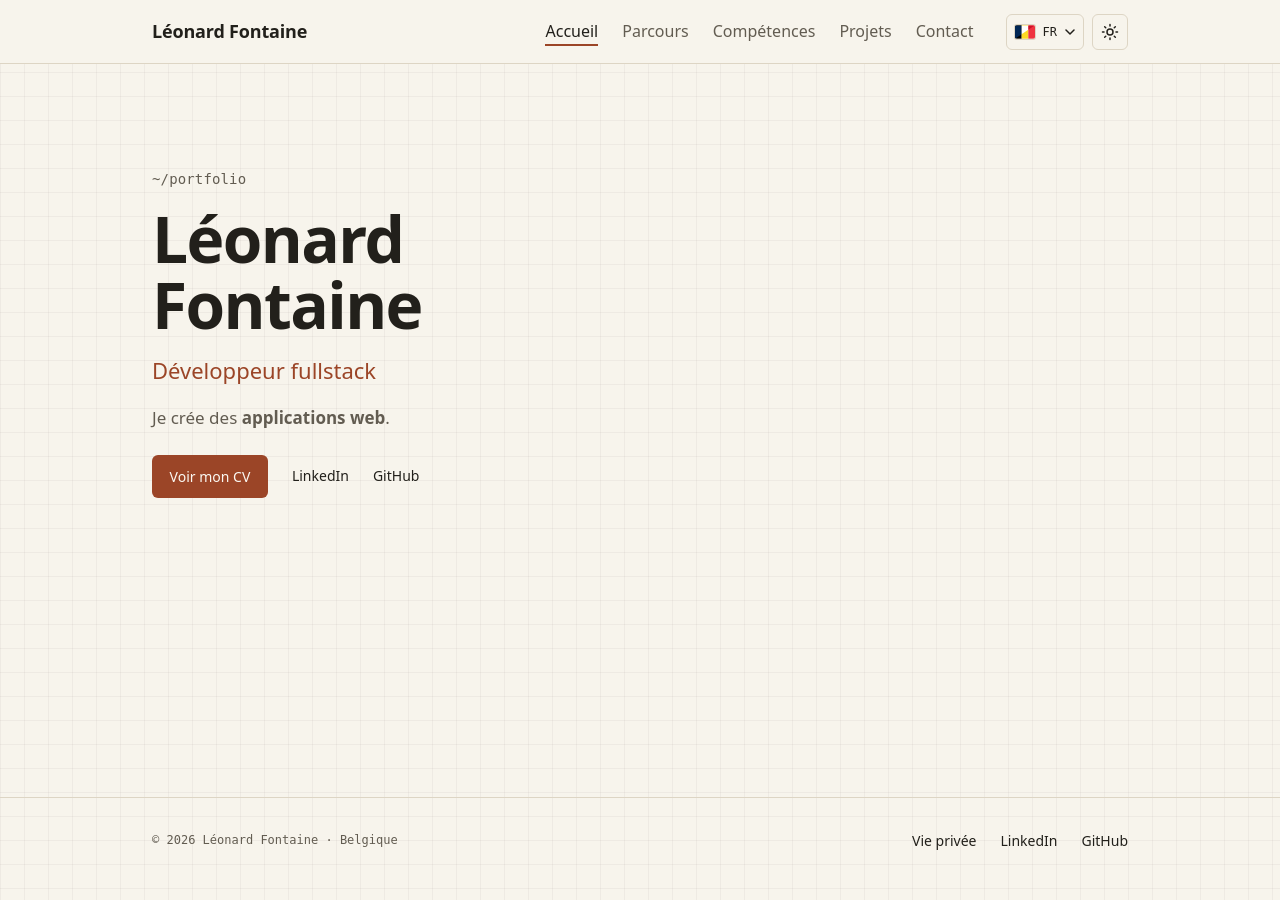
Test: home page › does not show the previous language while the new one loads
Expected: the text "Développeur fullstack" is shown, [152,355,376,385]
Click the button with aria-label "Langue : Français" at (1045, 32), box [1006,14,1084,50]
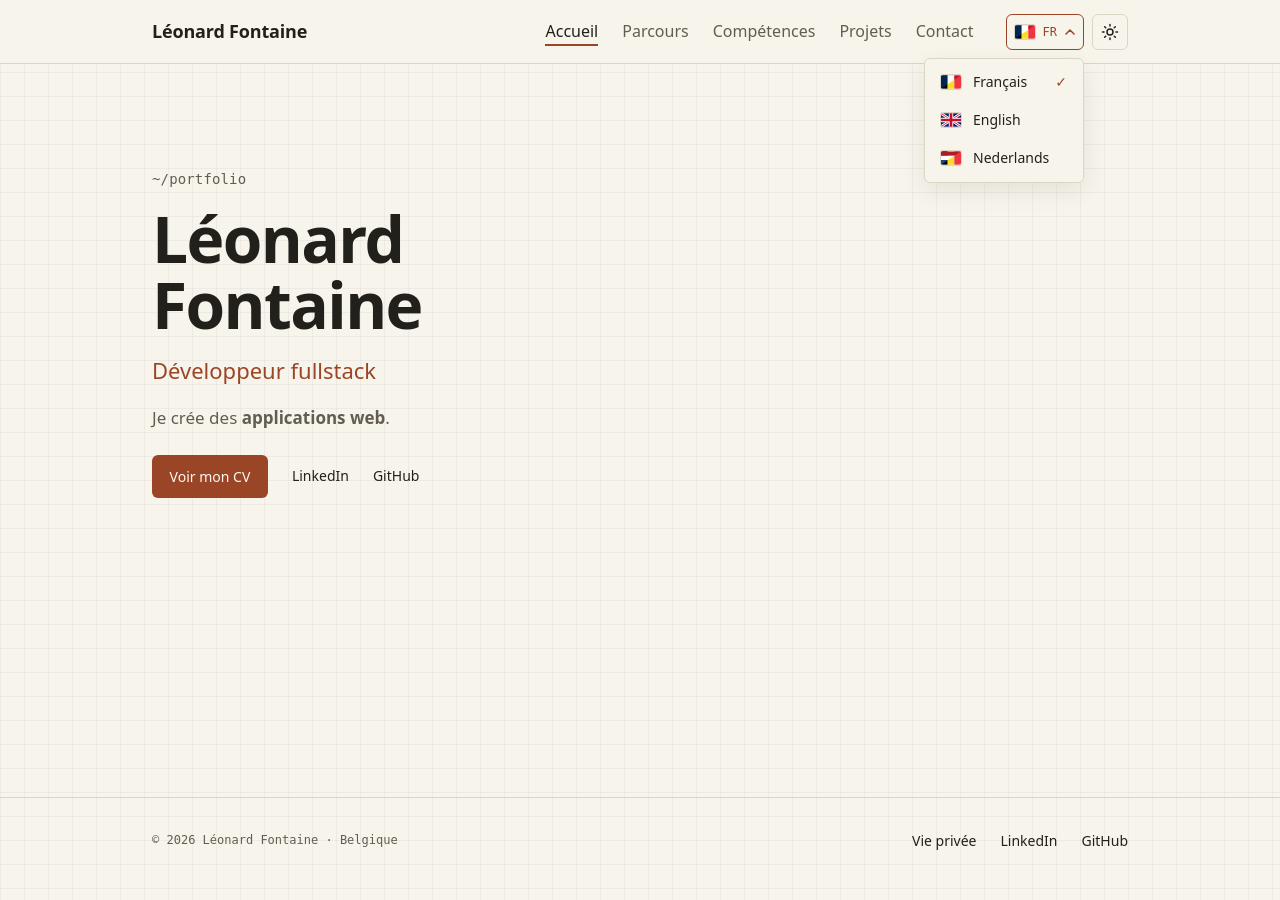
Click the link "English" at (981, 119), box [941,110,1021,129]
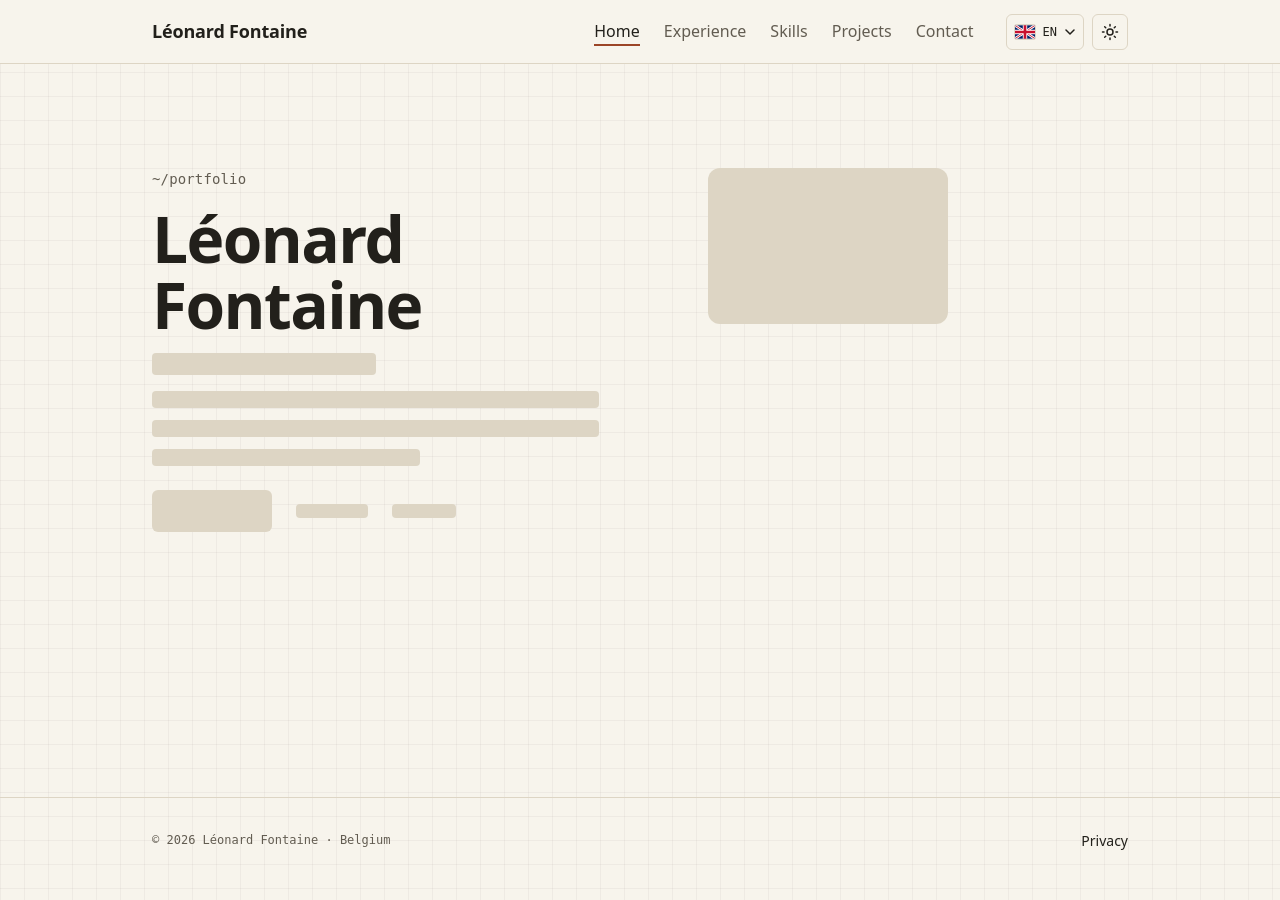
Expected: the text "Développeur fullstack" is gone
